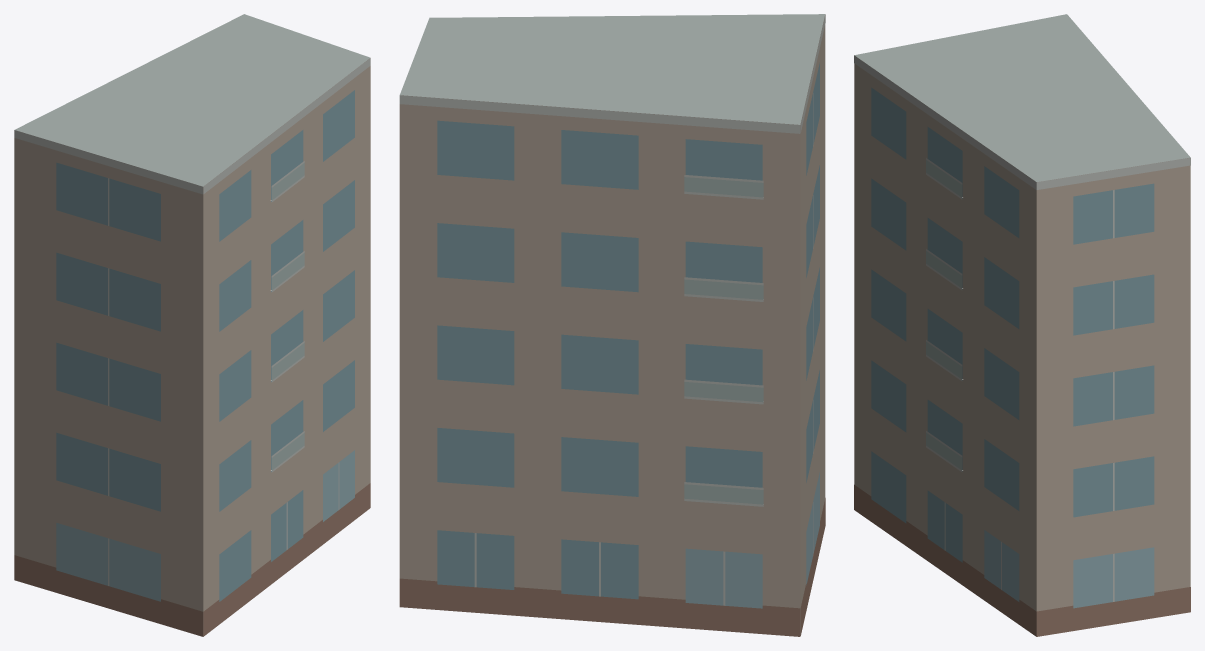
File: survey-upis-32857473.glb
3 views of the same model, side by side, from view 1: azimuth 30°, elevation 25°; view 2: azimuth 150°, elevation 25°; view 3: azimuth 270°, elevation 25° (orthographic). The views are drawn at different scales.
Visible parts, largest first — view 1: survey-upis-32857473.tmp; view 2: survey-upis-32857473.tmp; view 3: survey-upis-32857473.tmp.
Part boxes in pixels (bbox=[...]): survey-upis-32857473.tmp: bbox=[14, 14, 370, 636]; survey-upis-32857473.tmp: bbox=[399, 14, 825, 636]; survey-upis-32857473.tmp: bbox=[854, 14, 1190, 636].
Bounding box in the file's own units: 11.04 × 13.9 × 9.34.
